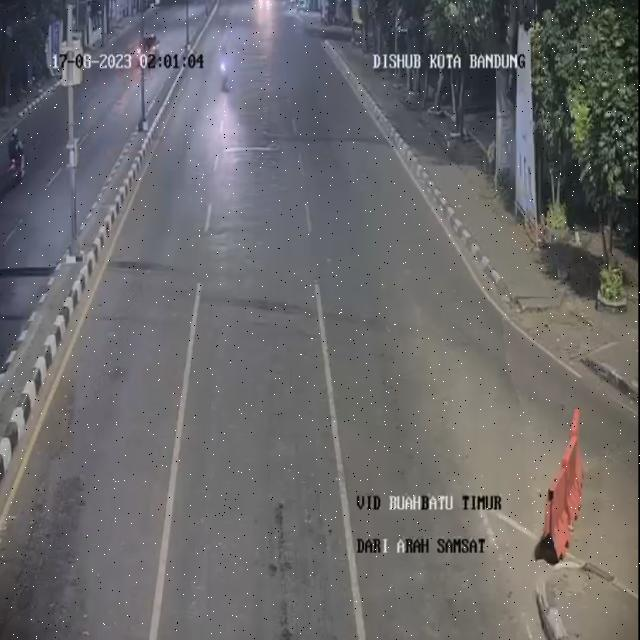motorcycle: (217, 43, 234, 98)
